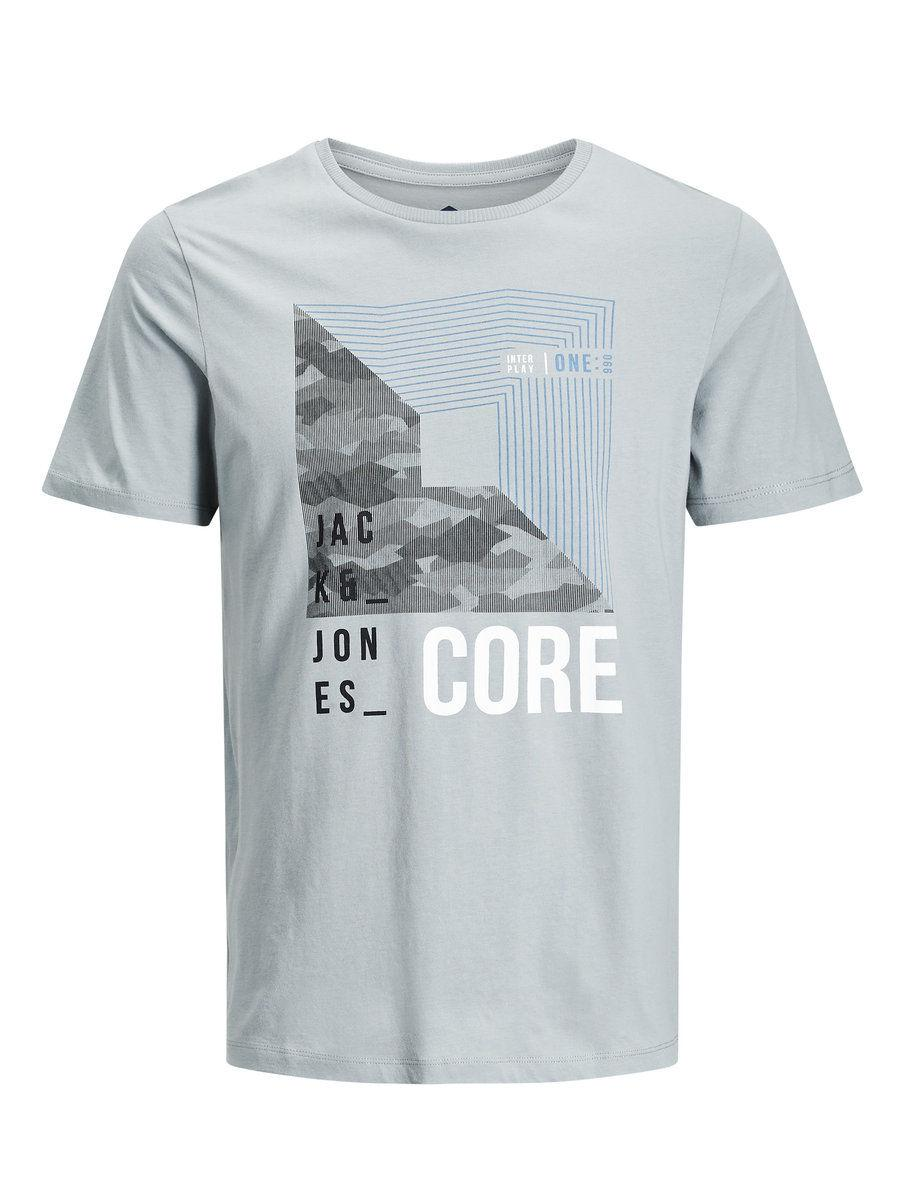teeshirt: (34, 116, 880, 1142)
